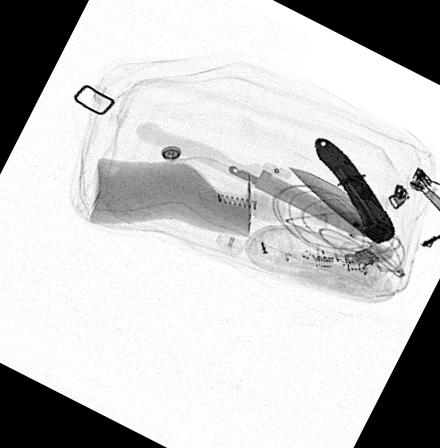Knife: (284, 133, 396, 244)
